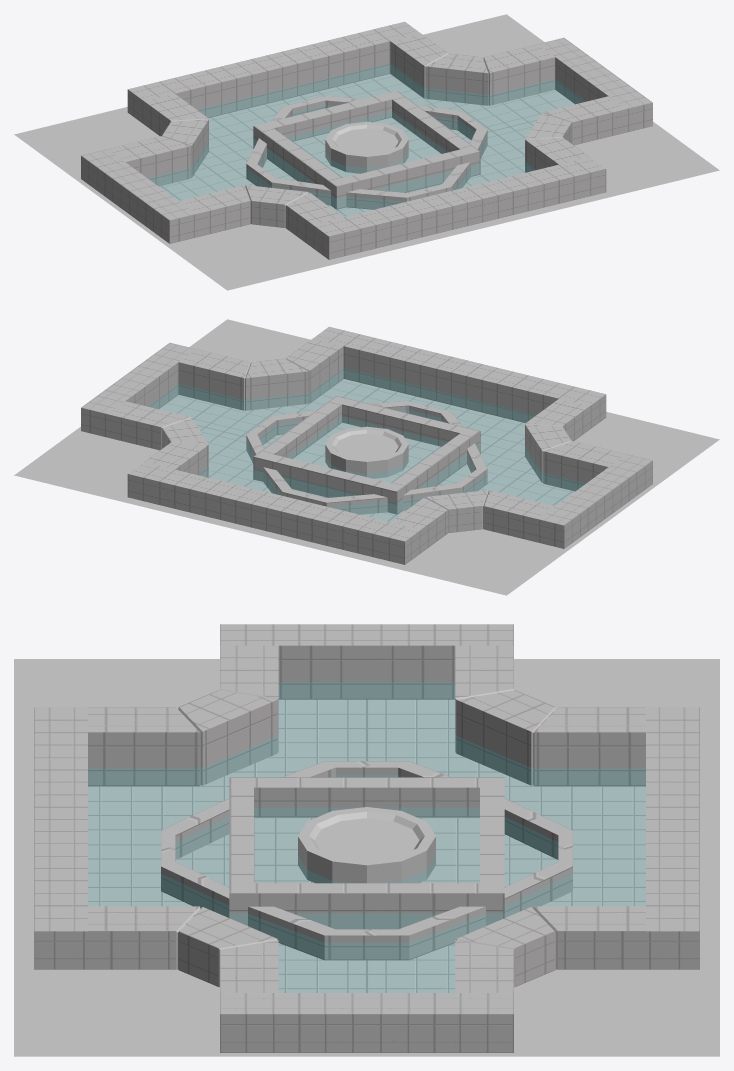
Rendered from SM_Bld_Fountain_01.fbx.
3 renders of one model, top to bottom at view 1: azimuth 30°, elevation 25°; view 2: azimuth 150°, elevation 25°; view 3: azimuth 270°, elevation 25°, orthographic. The views are drawn at different scales.
Parts seen in each view (by area): view 1: SM_Bld_Fountain_Frame_01, SM_Bld_Fountain_01, SM_Bld_Fountain_Well_01; view 2: SM_Bld_Fountain_Frame_01, SM_Bld_Fountain_01, SM_Bld_Fountain_Well_01; view 3: SM_Bld_Fountain_Frame_01, SM_Bld_Fountain_01, SM_Bld_Fountain_Well_01.
Boxes of the visible parts, bbox=[...] form: SM_Bld_Fountain_Frame_01: bbox=[81, 21, 652, 259]; SM_Bld_Fountain_01: bbox=[14, 14, 719, 290]; SM_Bld_Fountain_Well_01: bbox=[325, 121, 408, 173]; SM_Bld_Fountain_Frame_01: bbox=[81, 326, 652, 564]; SM_Bld_Fountain_01: bbox=[14, 319, 719, 595]; SM_Bld_Fountain_Well_01: bbox=[325, 426, 408, 478]; SM_Bld_Fountain_Frame_01: bbox=[34, 624, 699, 1052]; SM_Bld_Fountain_01: bbox=[14, 659, 719, 1056]; SM_Bld_Fountain_Well_01: bbox=[298, 807, 435, 883].
Size of the model in its own units: 1000 by 63.19 by 750.
